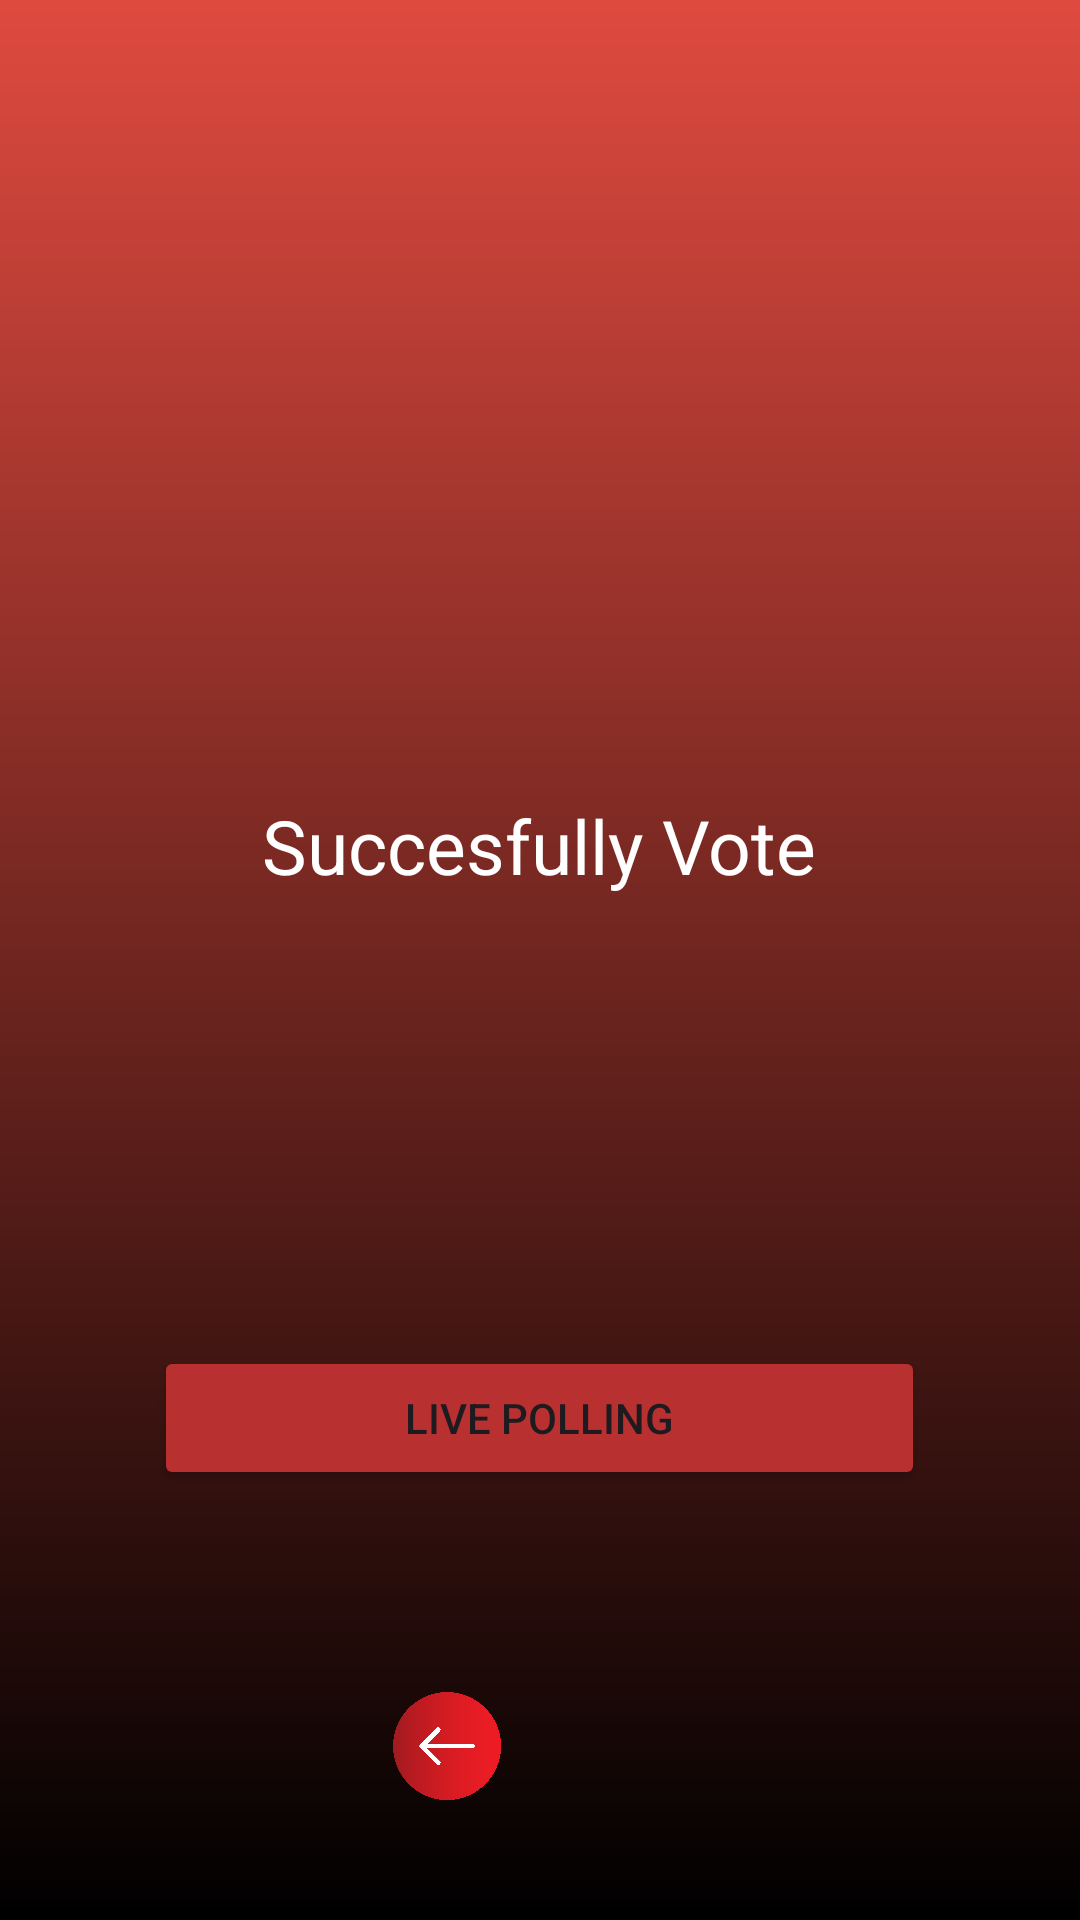

Screen size 1080px×1920px. Icon name, then its center in pixels as (x,y):
back: (447,1746)
